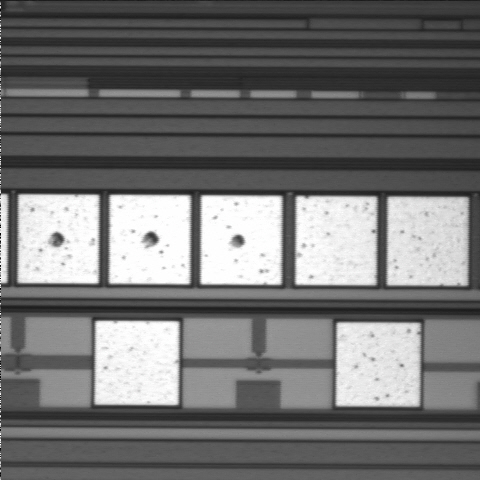pad: (109, 195, 191, 284), (201, 195, 282, 285), (18, 195, 99, 284), (296, 196, 377, 285), (387, 197, 468, 285), (95, 321, 179, 405), (336, 323, 420, 406)
